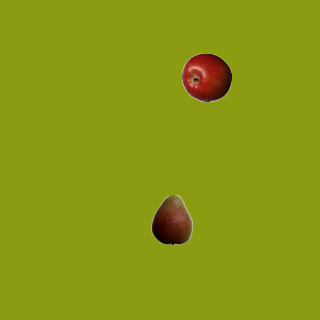Apple Braeburn: (181, 52, 231, 102)
Pear Forelle: (146, 194, 196, 244)
